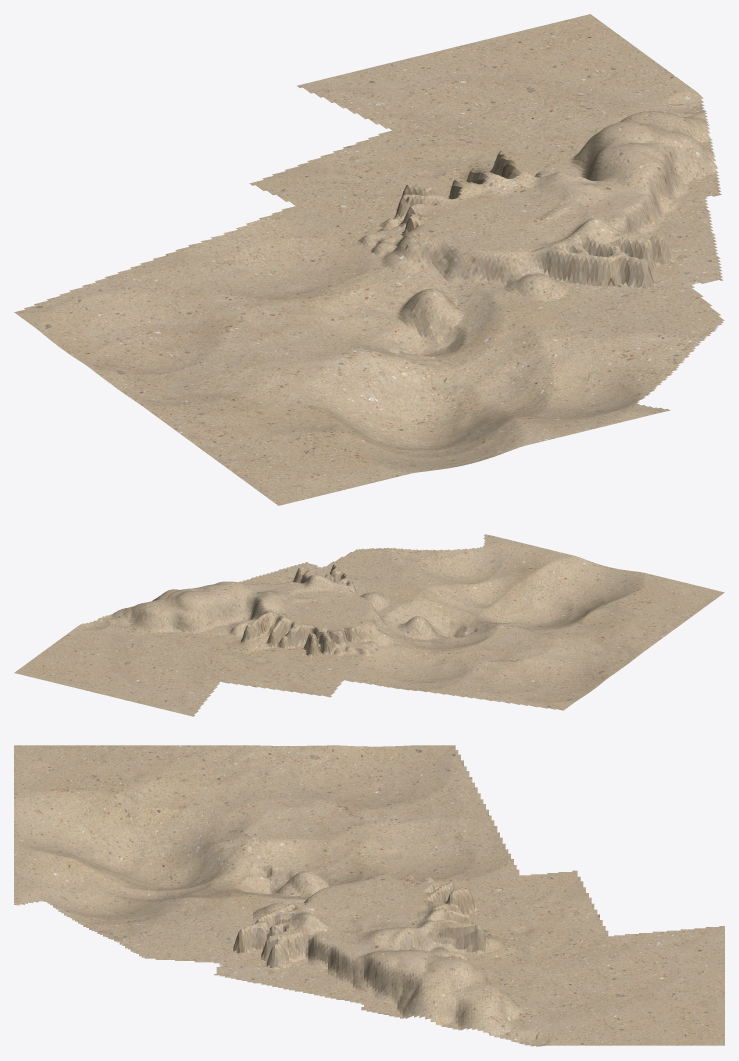
File: Map_GrandYork_Battle04_NaviMap.fbx
The picture shows the model from 3 angles, top to bottom: view 1: azimuth 30°, elevation 25°; view 2: azimuth 150°, elevation 25°; view 3: azimuth 270°, elevation 25°; orthographic projection. The views are drawn at different scales.
Parts seen in each view (by area): view 1: 평면; view 2: 평면; view 3: 평면.
Boxes of the visible parts, bbox=[...] form: 평면: bbox=[14, 14, 724, 505]; 평면: bbox=[14, 534, 724, 716]; 평면: bbox=[14, 745, 724, 1046].
Bounding box in the file's own units: 24543 × 2665 × 24543.
1 material, 1 textured.
